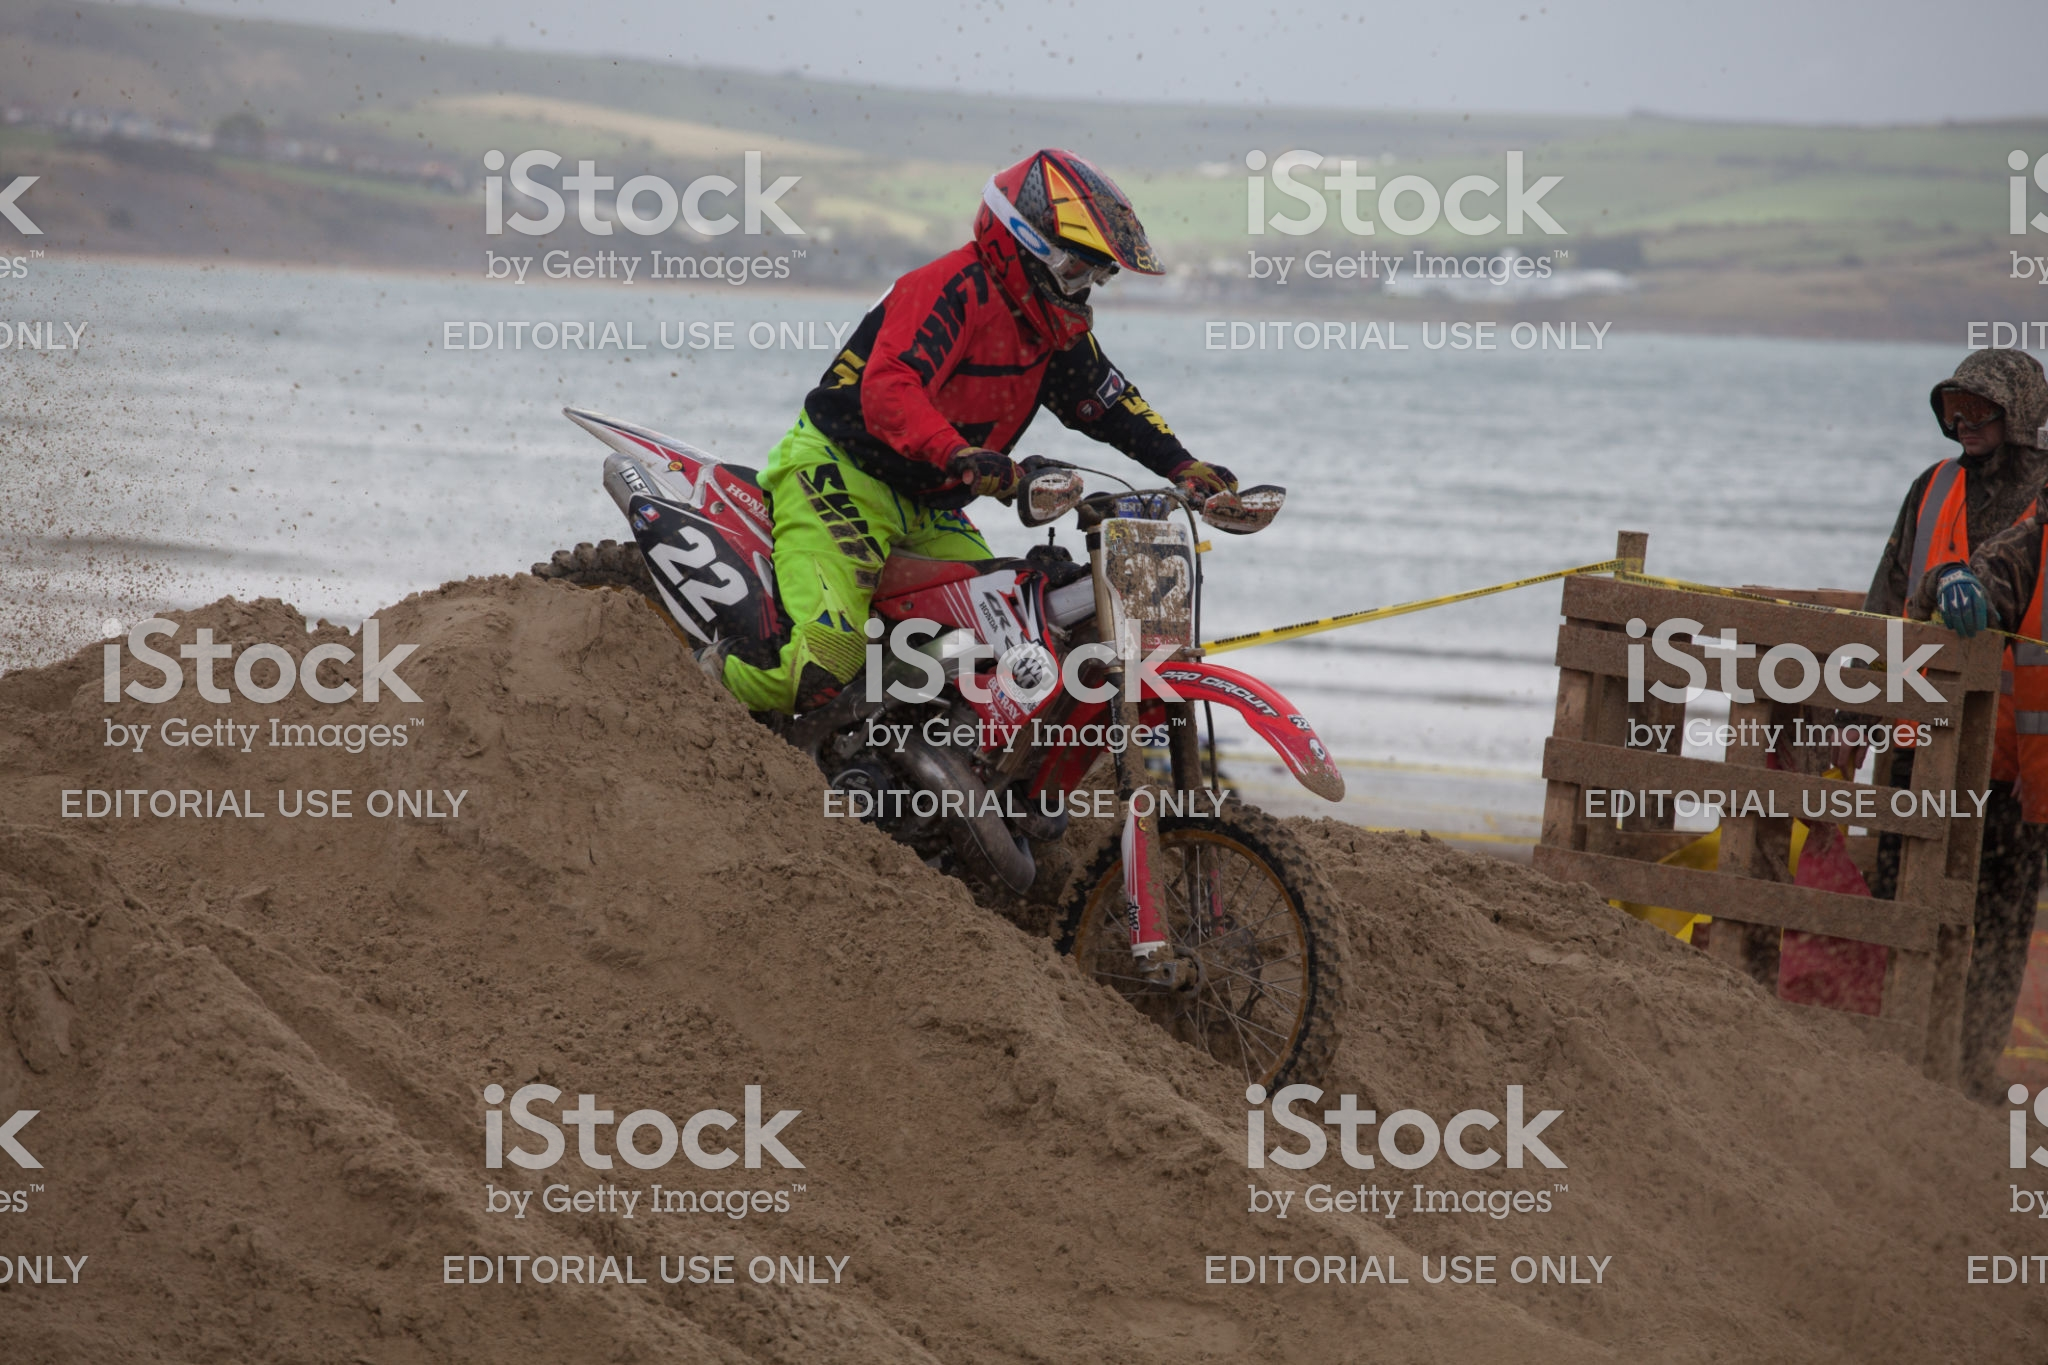helmet: (988, 129, 1147, 352)
